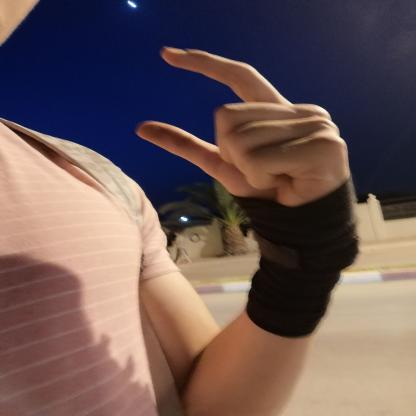DELL: (118, 34, 366, 237)
